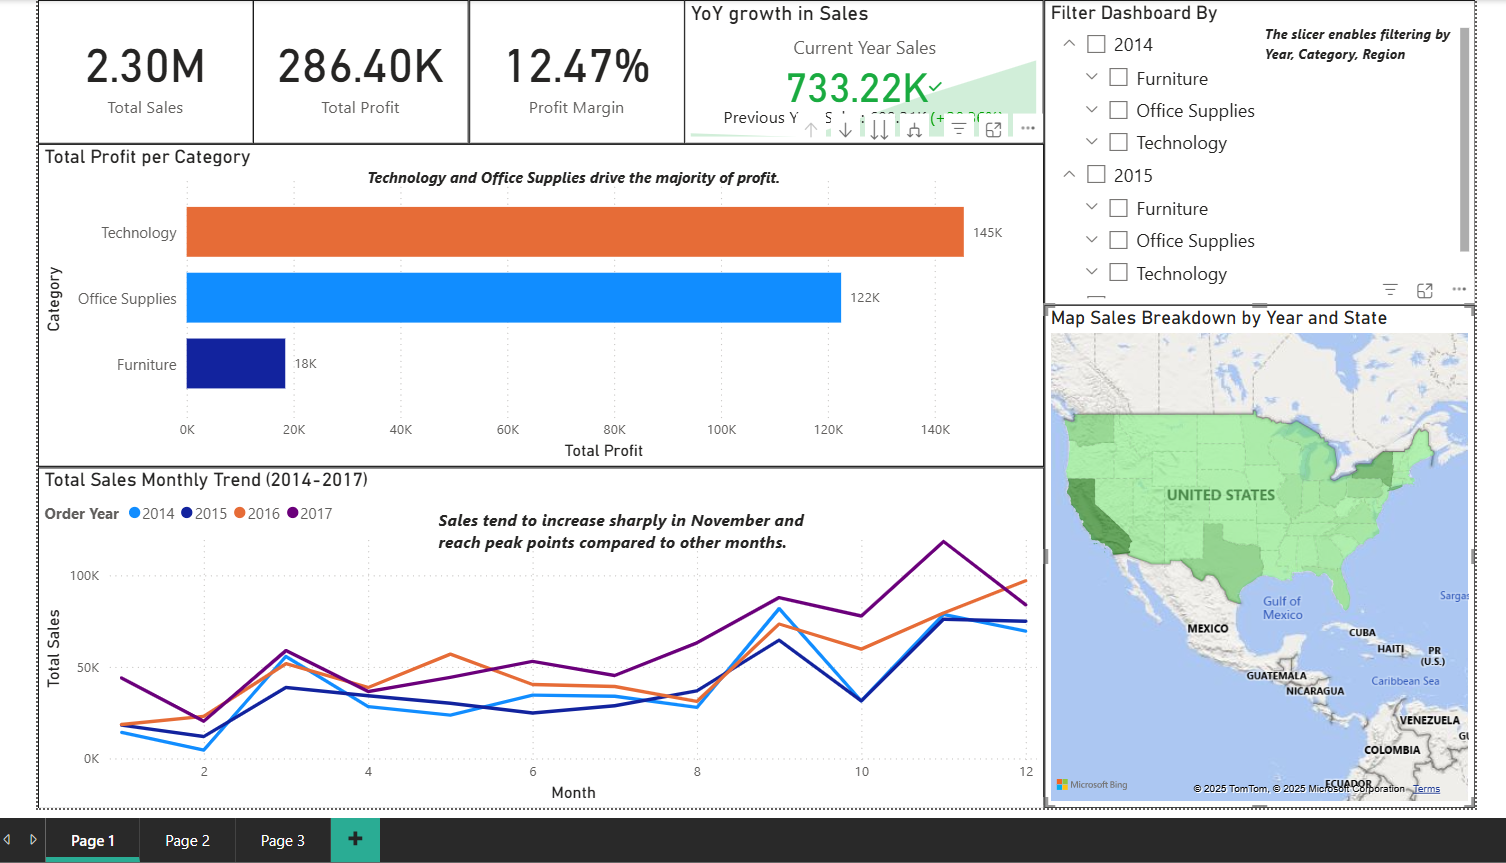

What the dashboard file says about the page in this screenshot:
{"tool":"powerbi","page":{"name":"Page 1","canvas":[1280,720],"ordinal":0},"visuals":[{"type":"card","fields":{"Values":["Sum(Sheet1.Sales)"]},"box":[0,0,192,128],"z":0},{"type":"card","fields":{"Values":["Sum(Sheet1.Profit)"]},"box":[192,0,192,128],"z":1000},{"type":"card","fields":{"Values":["Sheet1.Profit Margin"]},"box":[384,0,192,128],"z":2000},{"type":"kpi","title":"YoY growth in Sales","fields":{"Indicator":["Superstore.Current Year Sales"],"TrendLine":["Superstore.Order Year"],"Goal":["Superstore.Previous Year Sales"]},"box":[576,0,320,128],"z":3000},{"type":"clusteredBarChart","title":"Total Profit per Category","fields":{"Y":["Sum(Superstore.Profit)"],"Category":["Superstore.Category","Superstore.Sub-Category"]},"box":[0,128,896,288],"z":4000},{"type":"filledMap","title":"Map Sales Breakdown by Year and State","fields":{"Category":["Superstore.State"]},"box":[896,272,384,448],"z":5000},{"type":"slicer","title":"Filter Dashboard By","fields":{"Values":["Superstore.Order Year","Superstore.Category","Superstore.Region"]},"box":[896,0,384,272],"z":6000},{"type":"lineChart","title":"Total Sales Monthly Trend (2014-2017)","fields":{"Category":["Superstore.Month"],"Y":["Sum(Superstore.Sales)"],"Series":["Superstore.Order Year"]},"box":[0,416,896,304],"z":7000},{"type":"textbox","box":[352,448,336,64],"z":8000},{"type":"textbox","box":[288,144,384,32],"z":9000},{"type":"textbox","box":[1088,16,176,48],"z":10000},{"type":"textbox","box":[896,304,272,48],"z":11000},{"type":"textbox","box":[1104,336,176,48],"z":12000}]}

Visuals, with their boxes on the page's 1280x720 design canvas (x1, y1, x2, y2). These are canvas units, not pixel positions in the 1506x863 screenshot, which may show the page scaled, cropped or inside an application window:
card - Sum(Sheet1.Sales): box(0, 0, 192, 128)
card - Sum(Sheet1.Profit): box(192, 0, 384, 128)
card - Sheet1.Profit Margin: box(384, 0, 576, 128)
"YoY growth in Sales" kpi: box(576, 0, 896, 128)
"Total Profit per Category" clusteredBarChart: box(0, 128, 896, 416)
"Map Sales Breakdown by Year and State" filledMap: box(896, 272, 1280, 720)
"Filter Dashboard By" slicer: box(896, 0, 1280, 272)
"Total Sales Monthly Trend (2014-2017)" lineChart: box(0, 416, 896, 720)
textbox: box(352, 448, 688, 512)
textbox: box(288, 144, 672, 176)
textbox: box(1088, 16, 1264, 64)
textbox: box(896, 304, 1168, 352)
textbox: box(1104, 336, 1280, 384)
